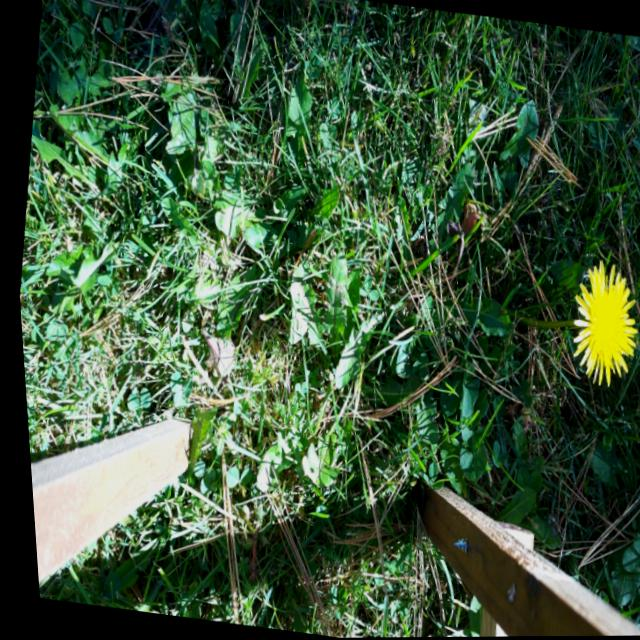base: (499, 296, 525, 335)
